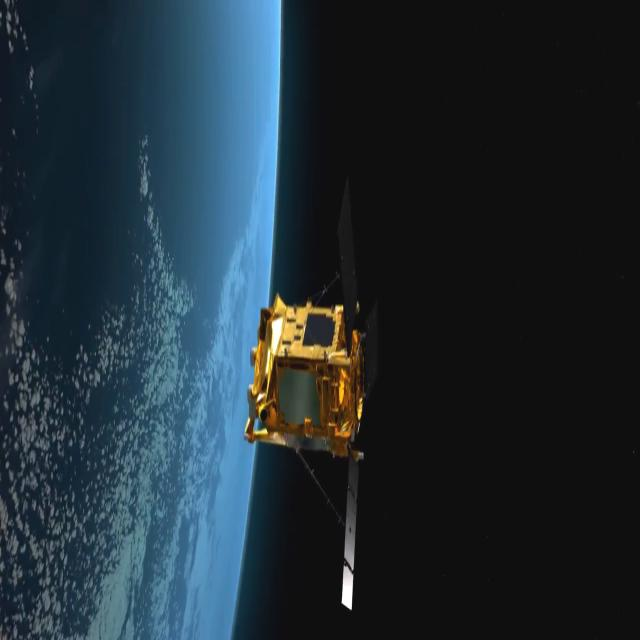satellite: (238, 214, 394, 640)
